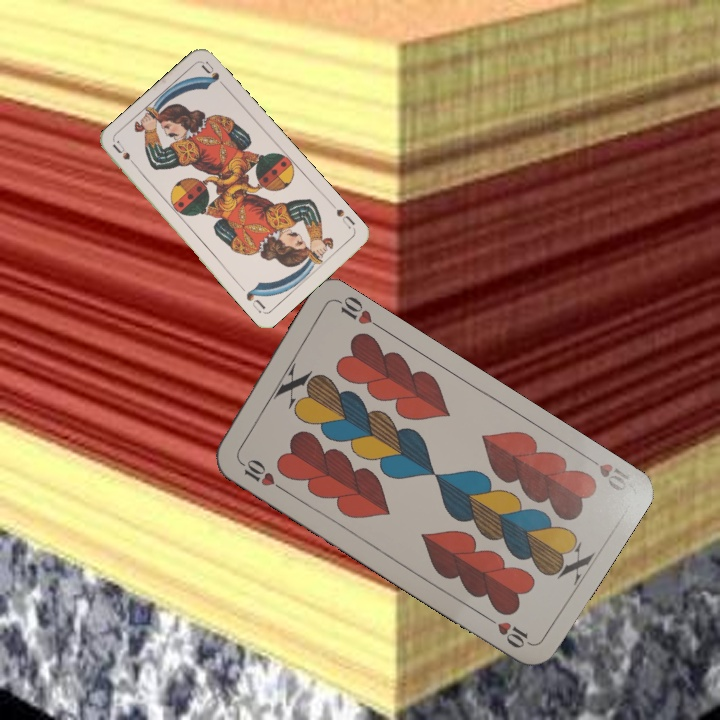H10: (580, 450, 633, 494), (234, 454, 286, 493)
SU: (109, 137, 142, 173), (332, 205, 357, 232)
